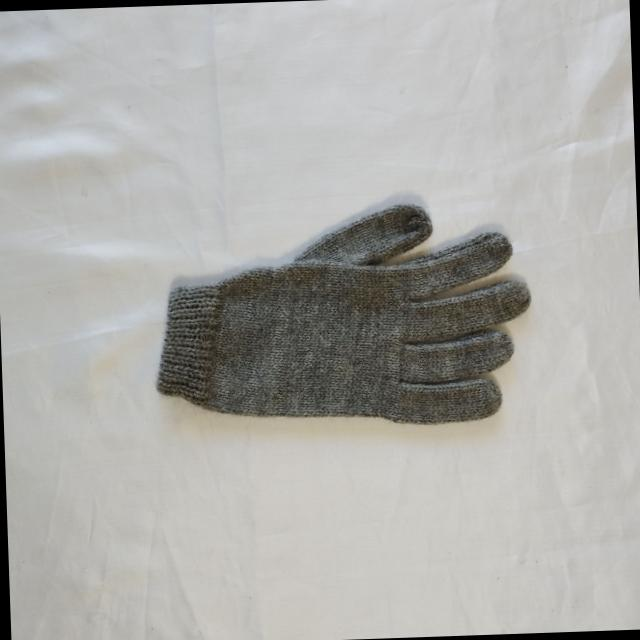Guante: (149, 196, 536, 434)
